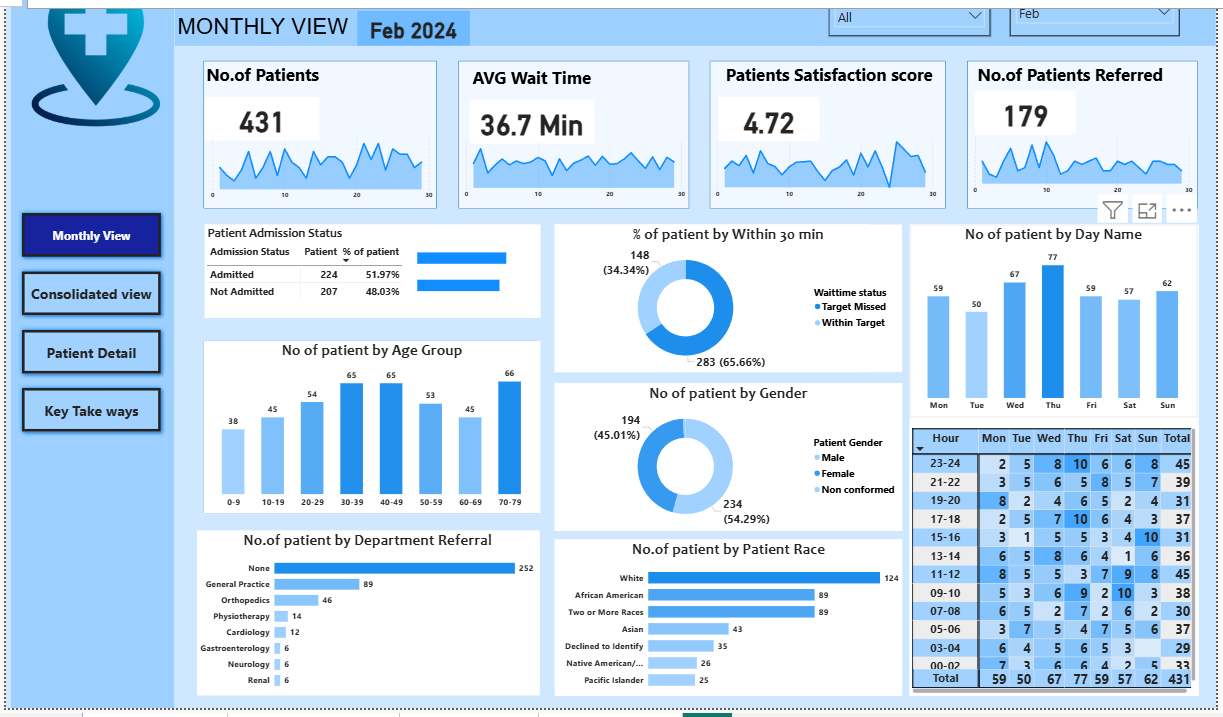

What the dashboard file says about the page in this screenshot:
{"tool":"powerbi","page":{"name":"Monthly View","canvas":[2300,1400],"ordinal":0},"visuals":[{"type":"shape","box":[9.9,0,310.7,1400.5],"z":0},{"type":"shape","box":[320.5,0,1980,140.5],"z":1000},{"type":"textbox","box":[320.5,0,1245.2,115.9],"z":2000},{"type":"textbox","box":[320.5,74,347.7,66.6],"z":3000},{"type":"shape","box":[374.8,167.7,443.8,281.1],"z":4000},{"type":"card","fields":{"Values":["Hospital ER_Data.NO.of patient"]},"box":[378.1,237.8,218.8,83.2],"z":5000},{"type":"slicer","fields":{"Values":["Date Table.Year Name"]},"box":[1565.7,22.2,308.2,101.1],"z":6000},{"type":"slicer","fields":{"Values":["Date Table.Month Name"]},"box":[1908.5,19.7,323,103.6],"z":7000},{"type":"textbox","box":[374.8,167.7,266.3,69],"z":8000},{"type":"areaChart","fields":{"Category":["Date Table.Date.Variation.Date Hierarchy.Day"],"Y":["AMeasure.NO.of patient"]},"box":[377.3,298.4,441.4,145.5],"z":9000},{"type":"card","fields":{"Values":["Min(Date Table.Month & Year)"]},"box":[668.2,74,214.5,66.6],"z":10000},{"type":"shape","box":[377.3,480.8,638.6,177.5],"z":11000},{"type":"shape","box":[859.7,167.7,438.9,281.1],"z":12000},{"type":"card","fields":{"Values":["AMeasure.Avg wait time"]},"box":[882.7,241.6,236.7,83.8],"z":13000},{"type":"textbox","box":[882.7,172.6,266.3,69],"z":14000},{"type":"areaChart","fields":{"Category":["Date Table.Date.Variation.Date Hierarchy.Day"],"Y":["Avg(Hospital ER_Data.Patient Waittime)"]},"box":[860.5,308.2,438.9,130.7],"z":15000},{"type":"shape","box":[1339.7,167.7,448.8,281.1],"z":16000},{"type":"card","fields":{"Values":["Avg(Hospital ER_Data.Patient Satisfaction Score)"]},"box":[1356.1,236.7,192.3,83.8],"z":17000},{"type":"textbox","box":[1356.1,167.7,421.6,69],"z":18000},{"type":"areaChart","fields":{"Category":["Date Table.Date.Variation.Date Hierarchy.Day"],"Y":["Avg(Hospital ER_Data.Patient Satisfaction Score)"]},"box":[1338.9,308.2,438.9,130.7],"z":19000},{"type":"shape","box":[1829.6,167.7,438.9,281.1],"z":20000},{"type":"card","fields":{"Values":["AMeasure.No. of patient referred"]},"box":[1841.9,226.8,192.3,83.8],"z":21000},{"type":"textbox","box":[1841.9,167.7,389.6,69],"z":22000},{"type":"areaChart","fields":{"Category":["Date Table.Date.Variation.Date Hierarchy.Day"],"Y":["AMeasure.No. of patient referred"]},"box":[1829.6,298.4,436.4,135.6],"z":23000},{"type":"pivotTable","title":"Patient Admission Status","fields":{"Rows":["Hospital ER_Data.Admission Status"],"Values":["AMeasure.NO.of patient1","AMeasure.NO.of patient"]},"box":[377.3,480.8,384.6,177.5],"z":24000},{"type":"barChart","fields":{"Category":["Hospital ER_Data.Admission Status"],"Y":["AMeasure.NO.of patient"]},"box":[776.7,495.6,236.7,147.9],"z":25000},{"type":"shape","box":[374.8,700.3,638.6,327.9],"z":26000},{"type":"columnChart","title":"No of patient by Age Group","fields":{"Y":["AMeasure.NO.of patient"],"Category":["Hospital ER_Data.Age Group"]},"box":[374.8,700.3,641.1,327.9],"z":27000},{"type":"shape","box":[364.9,1062.7,650.9,313.1],"z":28000},{"type":"barChart","fields":{"Category":["Hospital ER_Data.Department Referral"],"Y":["AMeasure.NO.of patient"]},"box":[364.9,1062.7,648.5,313.1],"z":29000},{"type":"shape","box":[1043,480.8,596.7,281.1],"z":30000},{"type":"donutChart","title":"% of patient by Within 30 min","fields":{"Category":["Hospital ER_Data.Waittime status"],"Y":["AMeasure.No.of patient"]},"box":[1043,480.8,660.8,281.1],"z":31000},{"type":"shape","box":[1043,781.6,660.8,281.1],"z":32000},{"type":"donutChart","title":"No of patient by Gender","fields":{"Y":["AMeasure.No.of patient"],"Category":["Hospital ER_Data.Patient Gender"]},"box":[1043.8,782.3,661,280.6],"z":33000},{"type":"shape","box":[1719.1,480.3,549.3,896.4],"z":34000},{"type":"shape","box":[1043.8,1079.5,661,280.6],"z":35000},{"type":"barChart","fields":{"Y":["AMeasure.NO.of patient"],"Category":["Hospital ER_Data.Patient Race"]},"box":[1043.8,1079.5,661,297.2],"z":36000},{"type":"pivotTable","fields":{"Rows":["Hospital ER_Data.Waittime interval"],"Columns":["Date Table.Day name"],"Values":["AMeasure.No.of patient"]},"box":[1719.1,863.1,549.3,513.6],"z":37000},{"type":"columnChart","title":"No of patient by Day Name","fields":{"Y":["AMeasure.NO.of patient"],"Category":["Date Table.Day name"]},"box":[1719.1,480.3,546.9,366.2],"z":38000},{"type":"image","box":[21.4,0,299.6,299.6],"z":39000},{"type":"pageNavigator","box":[21.4,449.4,282.9,435.1],"z":40000}]}

Visuals, with their boxes on the page's 2300x1400 design canvas (x1, y1, x2, y2). These are canvas units, not pixel positions in the 1223x717 screenshot, which may show the page scaled, cropped or inside an application window:
shape: box=[10, 0, 321, 1400]
shape: box=[320, 0, 2300, 140]
textbox: box=[320, 0, 1566, 116]
textbox: box=[320, 74, 668, 141]
shape: box=[375, 168, 819, 449]
card - Hospital ER_Data.NO.of patient: box=[378, 238, 597, 321]
slicer - Date Table.Year Name: box=[1566, 22, 1874, 123]
slicer - Date Table.Month Name: box=[1908, 20, 2232, 123]
textbox: box=[375, 168, 641, 237]
areaChart - Date Table.Date.Variation.Date Hierarchy.Day x AMeasure.NO.of patient: box=[377, 298, 819, 444]
card - Min(Date Table.Month & Year): box=[668, 74, 883, 141]
shape: box=[377, 481, 1016, 658]
shape: box=[860, 168, 1299, 449]
card - AMeasure.Avg wait time: box=[883, 242, 1119, 325]
textbox: box=[883, 173, 1149, 242]
areaChart - Date Table.Date.Variation.Date Hierarchy.Day x Avg(Hospital ER_Data.Patient Waittime): box=[860, 308, 1299, 439]
shape: box=[1340, 168, 1788, 449]
card - Avg(Hospital ER_Data.Patient Satisfaction Score): box=[1356, 237, 1548, 320]
textbox: box=[1356, 168, 1778, 237]
areaChart - Date Table.Date.Variation.Date Hierarchy.Day x Avg(Hospital ER_Data.Patient Satisfaction Score): box=[1339, 308, 1778, 439]
shape: box=[1830, 168, 2268, 449]
card - AMeasure.No. of patient referred: box=[1842, 227, 2034, 311]
textbox: box=[1842, 168, 2232, 237]
areaChart - Date Table.Date.Variation.Date Hierarchy.Day x AMeasure.No. of patient referred: box=[1830, 298, 2266, 434]
"Patient Admission Status" pivotTable: box=[377, 481, 762, 658]
barChart - Hospital ER_Data.Admission Status x AMeasure.NO.of patient: box=[777, 496, 1013, 644]
shape: box=[375, 700, 1013, 1028]
"No of patient by Age Group" columnChart: box=[375, 700, 1016, 1028]
shape: box=[365, 1063, 1016, 1376]
barChart - Hospital ER_Data.Department Referral x AMeasure.NO.of patient: box=[365, 1063, 1013, 1376]
shape: box=[1043, 481, 1640, 762]
"% of patient by Within 30 min" donutChart: box=[1043, 481, 1704, 762]
shape: box=[1043, 782, 1704, 1063]
"No of patient by Gender" donutChart: box=[1044, 782, 1705, 1063]
shape: box=[1719, 480, 2268, 1377]
shape: box=[1044, 1080, 1705, 1360]
barChart - AMeasure.NO.of patient x Hospital ER_Data.Patient Race: box=[1044, 1080, 1705, 1377]
pivotTable - Hospital ER_Data.Waittime interval x Date Table.Day name: box=[1719, 863, 2268, 1377]
"No of patient by Day Name" columnChart: box=[1719, 480, 2266, 846]
image: box=[21, 0, 321, 300]
pageNavigator: box=[21, 449, 304, 884]
